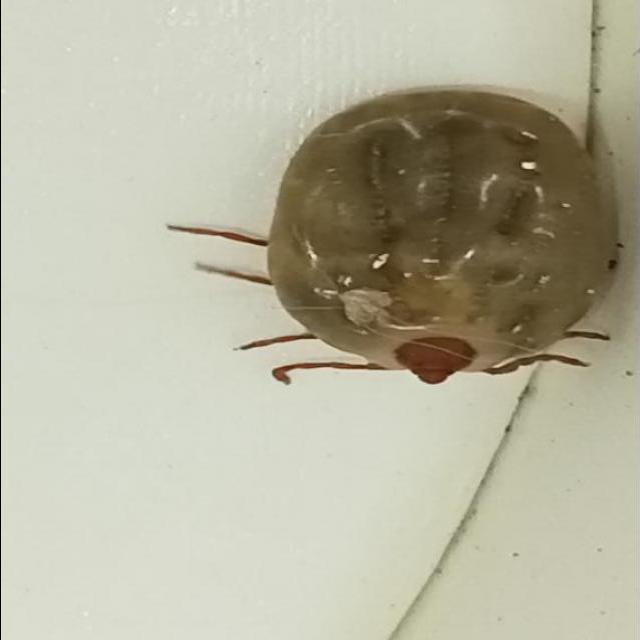Rhipicephalus Sanguineus-F-Fed: (167, 84, 624, 385)
